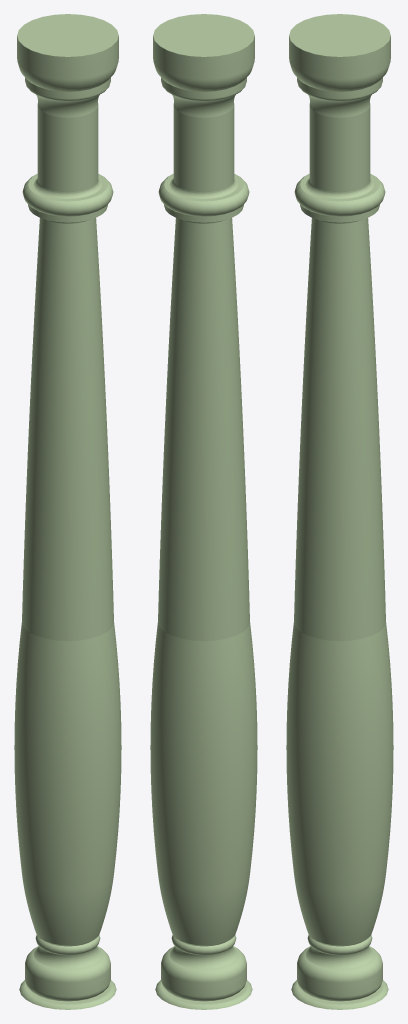
The model's file is original-22.obj.
The picture shows the model from 3 angles, left to right: view 1: azimuth 30°, elevation 25°; view 2: azimuth 150°, elevation 25°; view 3: azimuth 330°, elevation 25°; orthographic projection.
Parts seen in each view (by area): view 1: Leg_center1/Leg_center/mesh44/mesh44-geometry#mesh44-geometry; view 2: Leg_center1/Leg_center/mesh44/mesh44-geometry#mesh44-geometry; view 3: Leg_center1/Leg_center/mesh44/mesh44-geometry#mesh44-geometry.
Boxes of the visible parts, x1,y1,x2,y2 form: Leg_center1/Leg_center/mesh44/mesh44-geometry#mesh44-geometry: (14, 14, 121, 1009); Leg_center1/Leg_center/mesh44/mesh44-geometry#mesh44-geometry: (150, 14, 257, 1009); Leg_center1/Leg_center/mesh44/mesh44-geometry#mesh44-geometry: (286, 14, 393, 1009).
Bounding box in the file's own units: 0.0689 × 0.6779 × 0.0689.
